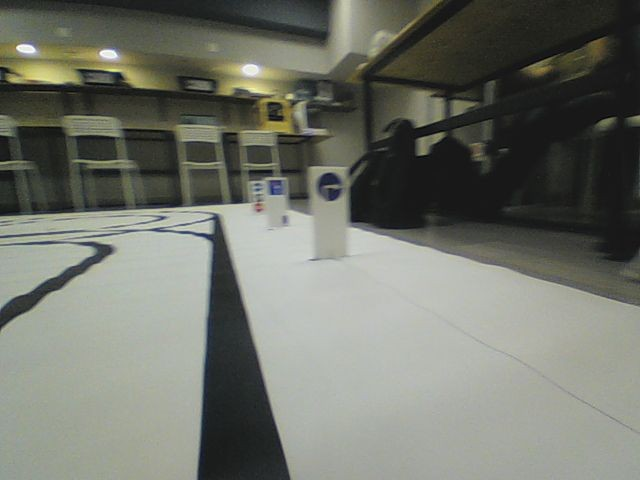Right: (315, 171, 343, 202)
